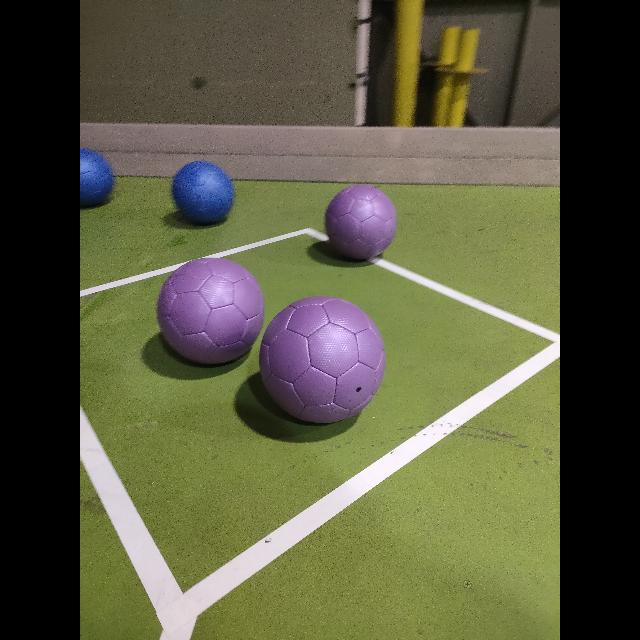B: (172, 161, 234, 223), (80, 146, 120, 202)
P: (259, 296, 385, 422), (158, 257, 264, 363), (326, 184, 396, 260)
